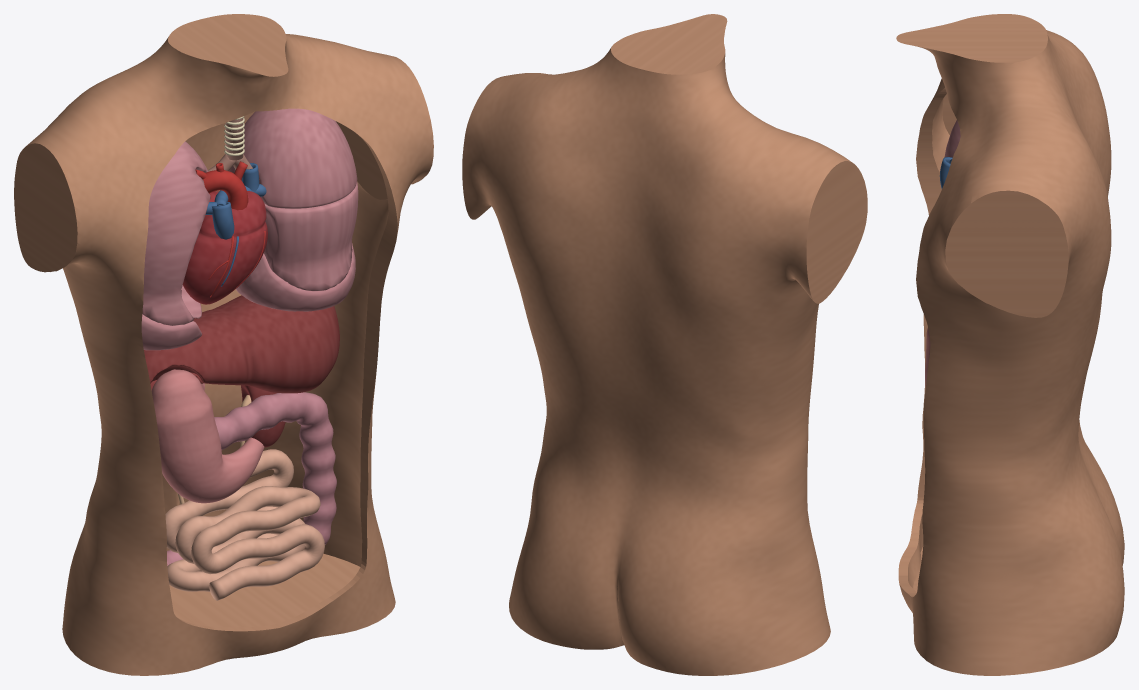
Rendered from torso-with-removable-organs.glb.
3 renders of one model, left to right at view 1: azimuth 30°, elevation 25°; view 2: azimuth 150°, elevation 25°; view 3: azimuth 270°, elevation 25°, orthographic. The views are drawn at different scales.
Visible parts, largest first — view 1: MakeHuman CC0 torso shell with anterior teaching cavity, Convoluted representative small bowel course, Liver asymmetric lobes and falciform groove, Right lung superior lobe, Stomach fundus body antrum and esophageal stub, Left lung superior lobe, Right lung middle lobe, Large intestine cecum colon sigmoid and rectal stub, Heart ventricular and atrial myocardium, Right lung inferior lobe, Left lung inferior lobe, Ascending aorta and aortic arch (+2 smaller); view 2: MakeHuman CC0 torso shell with anterior teaching cavity; view 3: MakeHuman CC0 torso shell with anterior teaching cavity.
Part boxes in pixels (bbox=[...]): MakeHuman CC0 torso shell with anterior teaching cavity: bbox=[14, 14, 433, 675]; Convoluted representative small bowel course: bbox=[165, 449, 324, 600]; Liver asymmetric lobes and falciform groove: bbox=[144, 295, 339, 393]; Right lung superior lobe: bbox=[229, 108, 357, 208]; Stomach fundus body antrum and esophageal stub: bbox=[151, 369, 264, 503]; Left lung superior lobe: bbox=[142, 141, 210, 325]; Right lung middle lobe: bbox=[264, 182, 358, 291]; Large intestine cecum colon sigmoid and rectal stub: bbox=[167, 392, 336, 565]; Heart ventricular and atrial myocardium: bbox=[182, 191, 267, 304]; Right lung inferior lobe: bbox=[236, 243, 355, 311]; Left lung inferior lobe: bbox=[141, 285, 201, 350]; Ascending aorta and aortic arch: bbox=[203, 170, 248, 210]; MakeHuman CC0 torso shell with anterior teaching cavity: bbox=[462, 14, 867, 675]; MakeHuman CC0 torso shell with anterior teaching cavity: bbox=[896, 14, 1124, 675].
Size of the model in its own units: 0.41 by 0.64 by 0.2342.
Materials: 13 (13 with a texture image).
